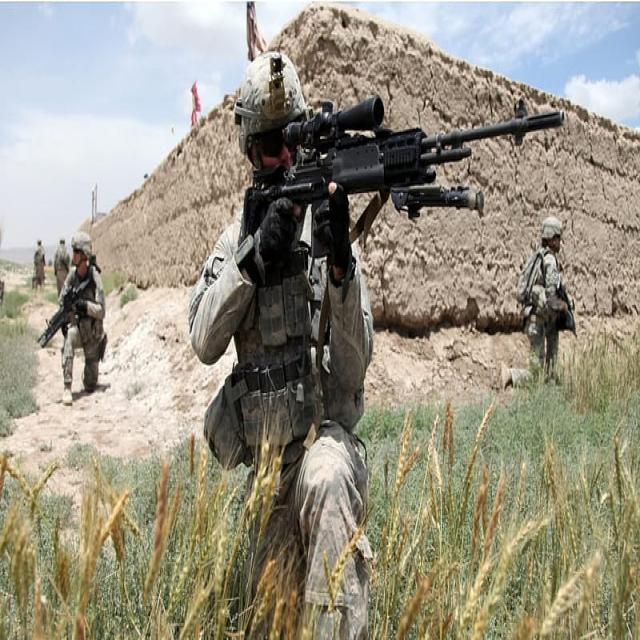Gun: (200, 83, 570, 268)
